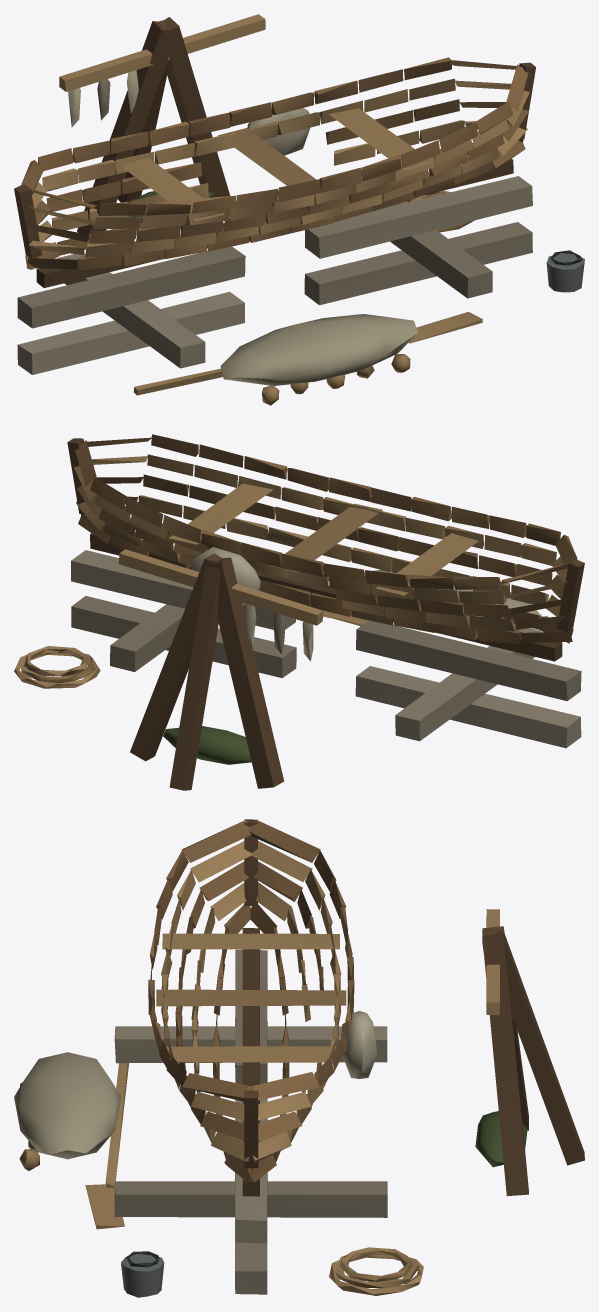
Rendered from skiff_on_blocks_b_lod2.glb.
3 renders of one model, top to bottom at view 1: azimuth 30°, elevation 25°; view 2: azimuth 150°, elevation 25°; view 3: azimuth 270°, elevation 25°, orthographic. The views are drawn at different scales.
Visible parts, largest first — view 1: Surface.001; view 2: Surface.001; view 3: Surface.001.
Boxes of the visible parts, <box> form: Surface.001: <box>14,14,584,405</box>; Surface.001: <box>14,434,584,790</box>; Surface.001: <box>14,819,584,1297</box>.
Size of the model in its own units: 7.91 by 3.08 by 6.84.
